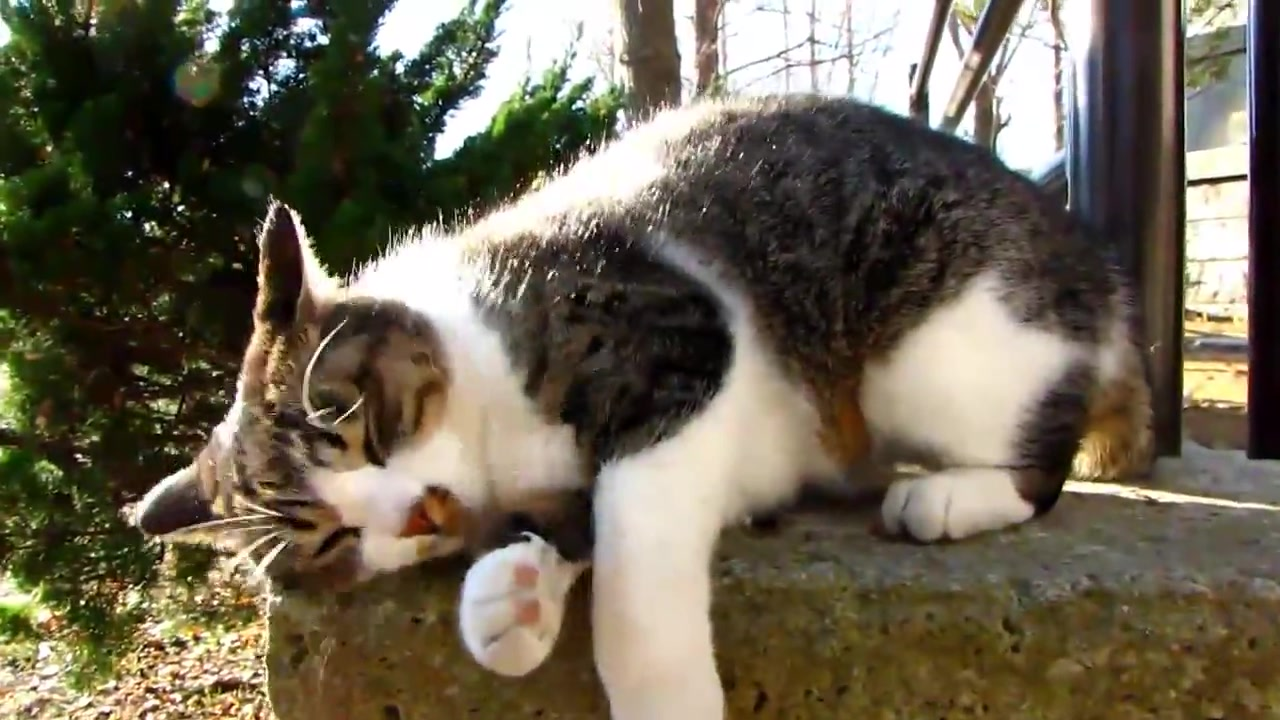cat: (124, 90, 1155, 720)
